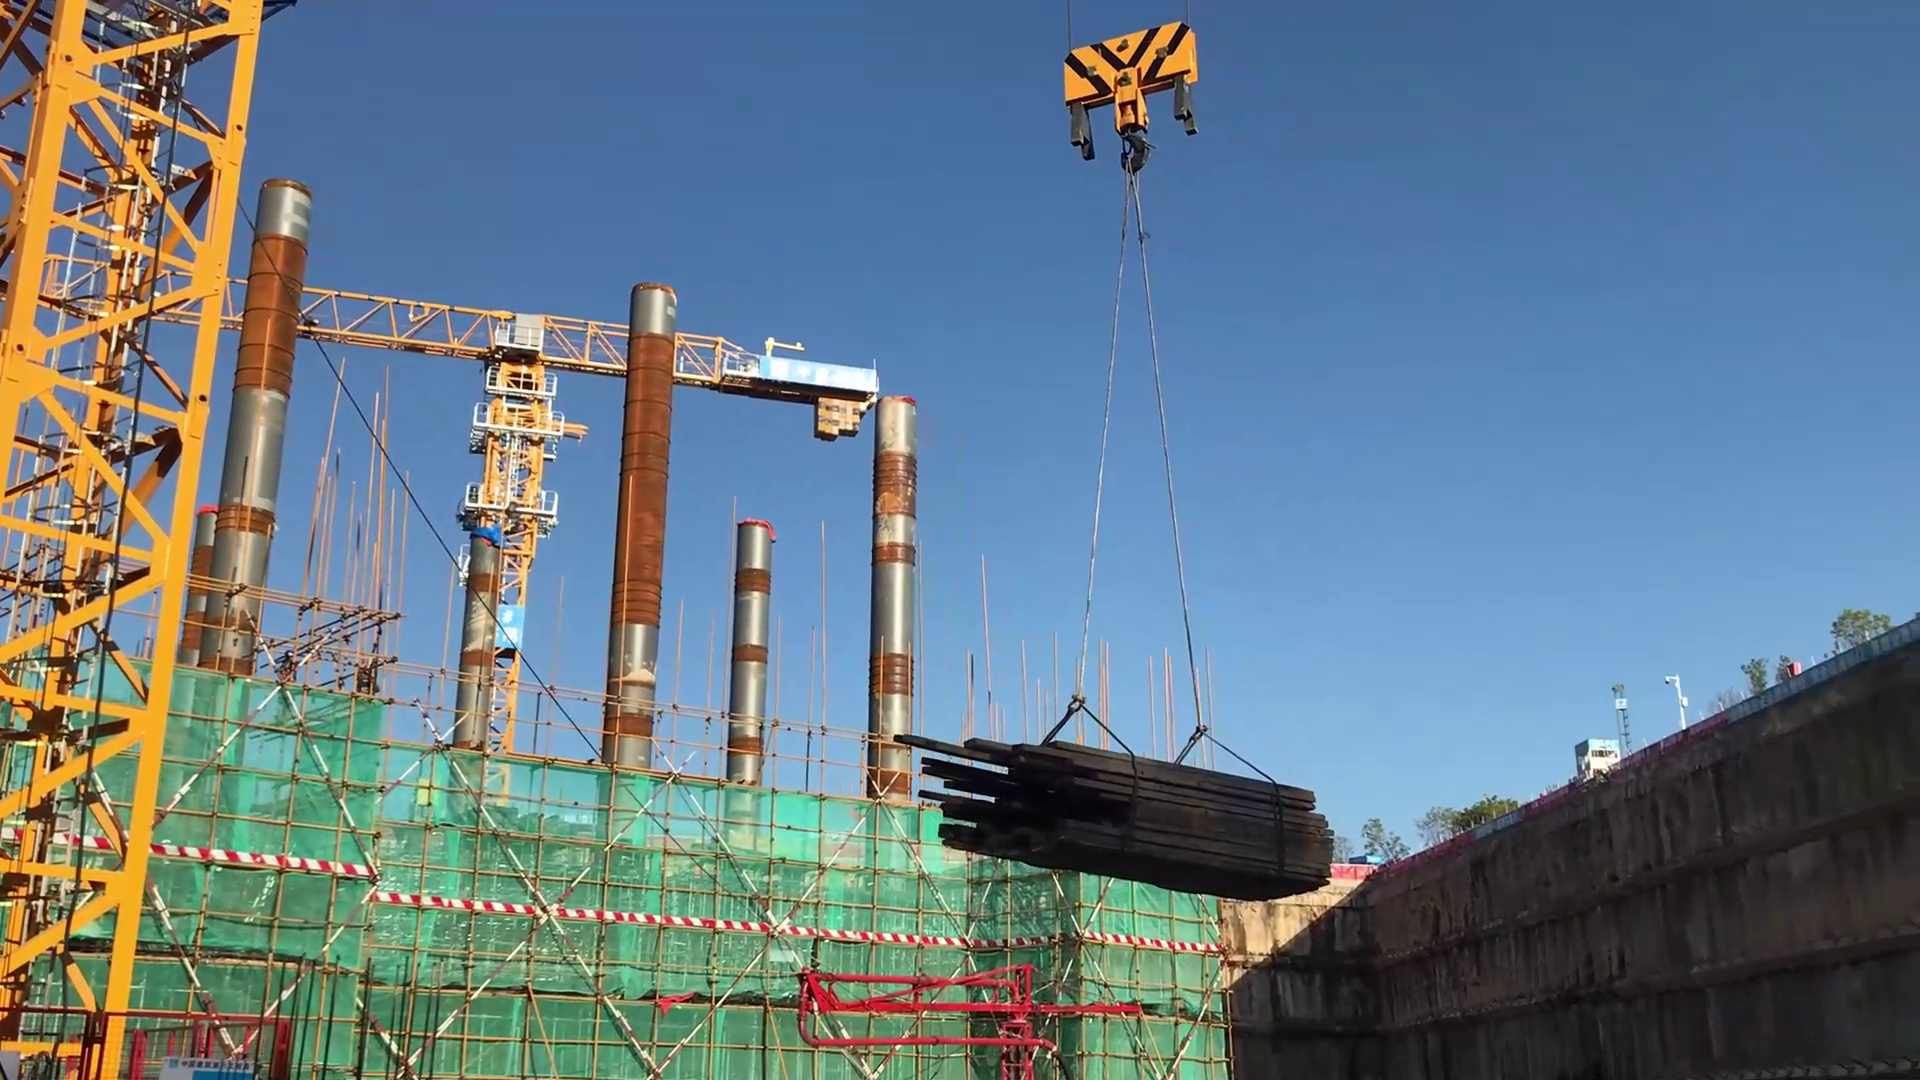hook: (1055, 17, 1204, 174)
wood: (890, 715, 1346, 916)
